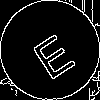E: (25, 25, 78, 81)
